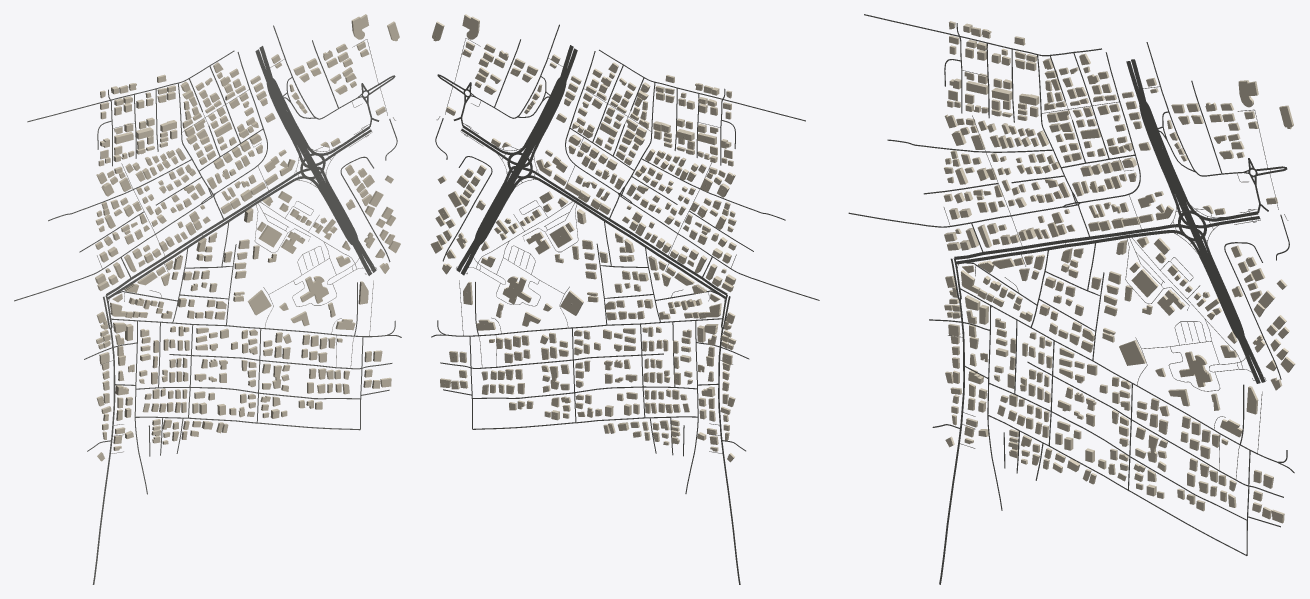
The model's file is amman_3584_3195.glb.
3 renders of one model, left to right at view 1: azimuth 30°, elevation 25°; view 2: azimuth 150°, elevation 25°; view 3: azimuth 330°, elevation 25°, orthographic. The views are drawn at different scales.
Parts seen in each view (by area): view 1: Road شارع حسني صوبر, Road شارع الملك عبدالله بن الحسين, Road شارع الملك عبدالله بن الحسين ال, Road شارع حسني صوبر.001, Road شارع جمال قيتوكة; view 2: Road شارع الملك عبدالله بن الحسين ال, Road شارع حسني صوبر, Road شارع الملك عبدالله بن الحسين, Road شارع حسني صوبر.001, Road شارع جمال قيتوكة; view 3: Road شارع الملك عبدالله بن الحسين ال, Road شارع حسني صوبر, Road شارع الملك عبدالله بن الحسين, Road شارع حسني صوبر.001, Road شارع جمال قيتوكة, Building_.290.
Part boxes in pixels (x1=…): Road شارع حسني صوبر: x1=106, y1=170, x2=301, y2=295; Road شارع الملك عبدالله بن الحسين: x1=272, y1=92, x2=350, y2=236; Road شارع الملك عبدالله بن الحسين ال: x1=275, y1=90, x2=353, y2=234; Road شارع حسني صوبر.001: x1=111, y1=179, x2=294, y2=297; Road شارع جمال قيتوكة: x1=92, y1=329, x2=115, y2=584; Road شارع الملك عبدالله بن الحسين ال: x1=479, y1=90, x2=558, y2=233; Road شارع حسني صوبر: x1=531, y1=170, x2=727, y2=294; Road شارع الملك عبدالله بن الحسين: x1=482, y1=91, x2=560, y2=235; Road شارع حسني صوبر.001: x1=538, y1=178, x2=722, y2=296; Road شارع جمال قيتوكة: x1=718, y1=328, x2=740, y2=584; Road شارع الملك عبدالله بن الحسين ال: x1=1148, y1=119, x2=1239, y2=325; Road شارع حسني صوبر: x1=954, y1=224, x2=1179, y2=259; Road شارع الملك عبدالله بن الحسين: x1=1145, y1=119, x2=1236, y2=326; Road شارع حسني صوبر.001: x1=960, y1=230, x2=1171, y2=263; Road شارع جمال قيتوكة: x1=939, y1=300, x2=964, y2=584; Building_.290: x1=1179, y1=351, x2=1212, y2=387.
Bounding box in the file's own units: 1232 × 1565 × 19.8.
